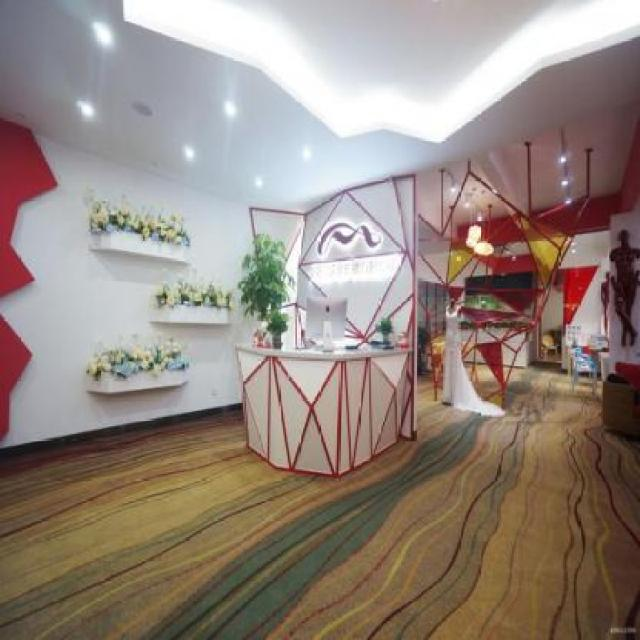frontdesk: (226, 328, 414, 480)
